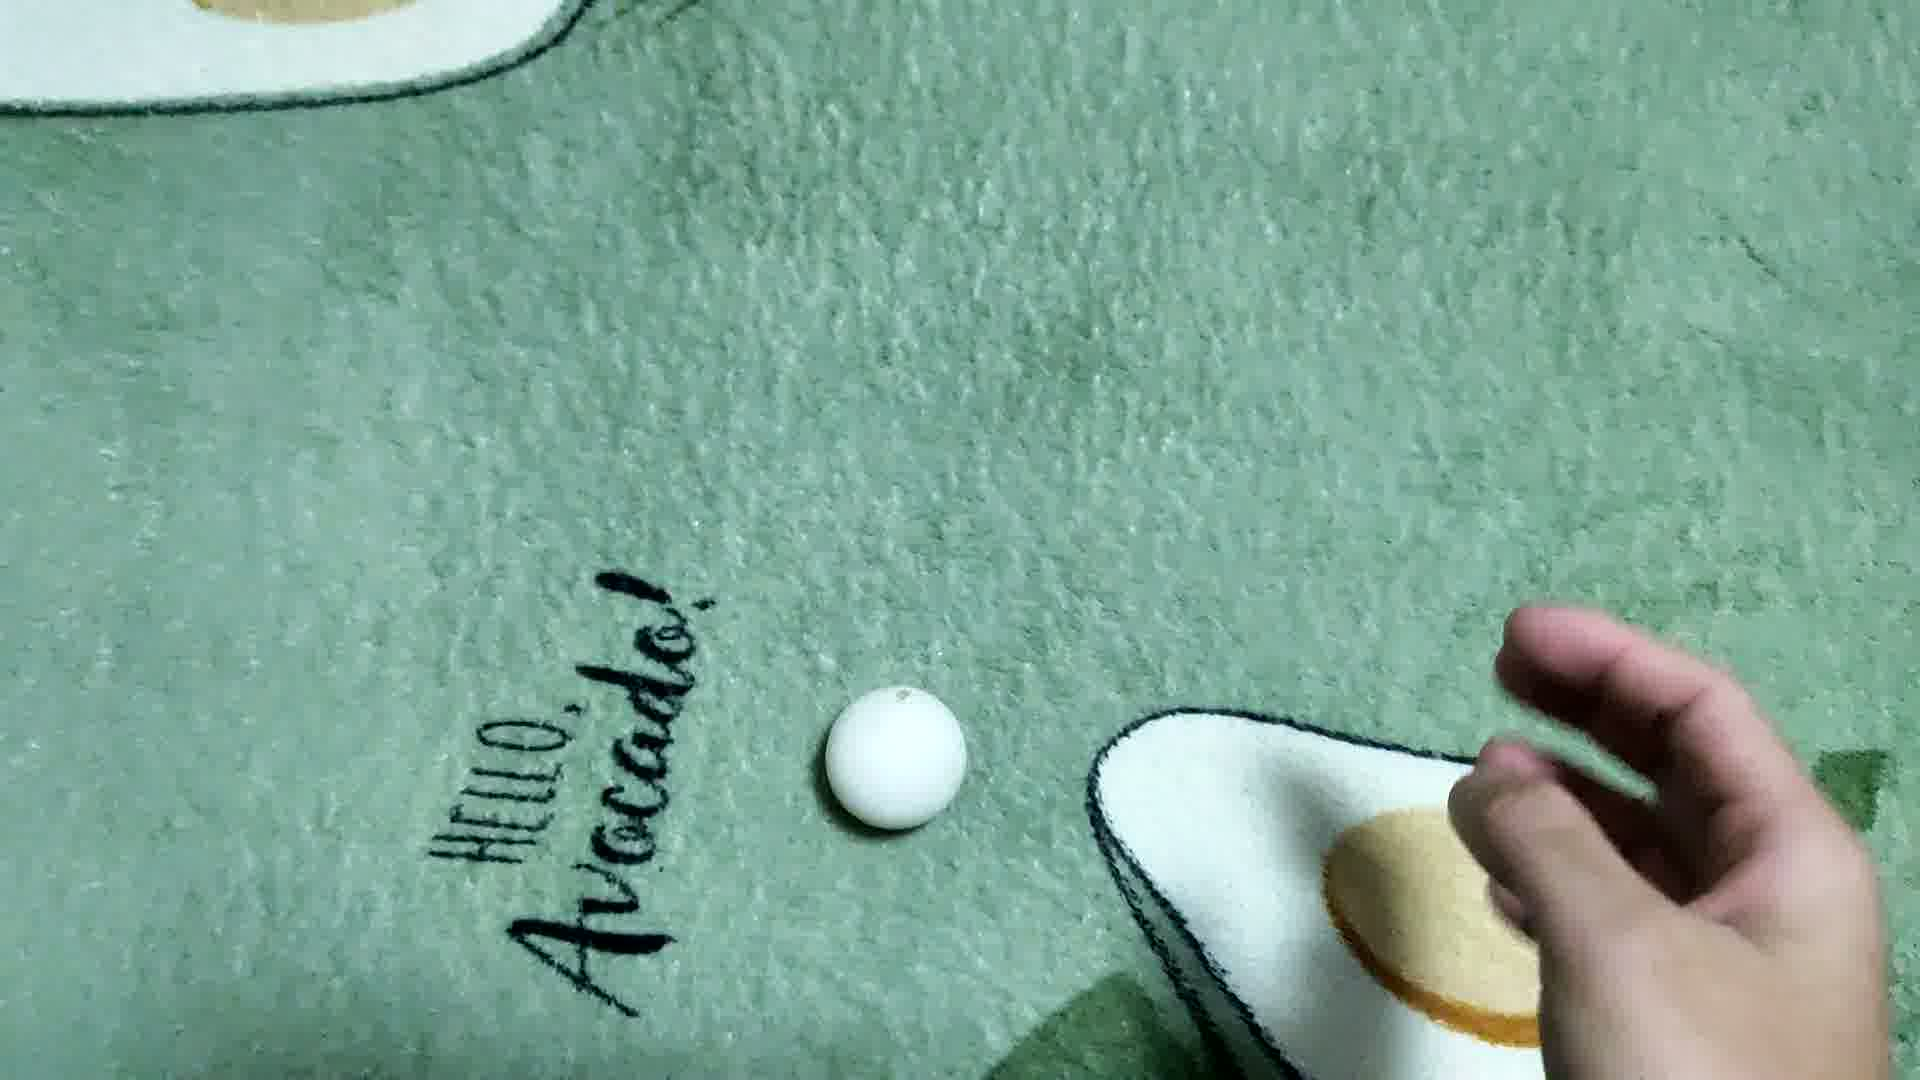Ball: (822, 684, 967, 832)
